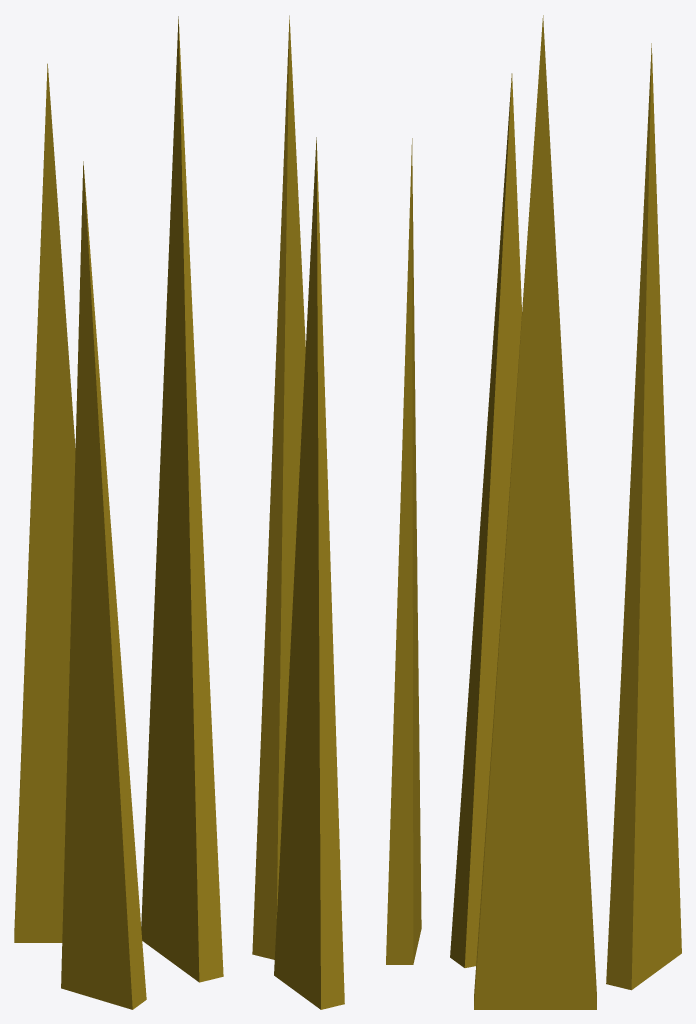
File: Grass_b_03.fbx
The picture shows the model from 3 angles, left to right: view 1: azimuth 30°, elevation 25°; view 2: azimuth 150°, elevation 25°; view 3: azimuth 270°, elevation 25°; orthographic projection. The views are drawn at different scales.
Visible parts, largest first — view 1: Grass_b_03_LOD0; view 2: Grass_b_03_LOD0; view 3: Grass_b_03_LOD0.
Boxes of the visible parts, x1,y1,x2,y2 form: Grass_b_03_LOD0: [14, 16, 223, 1009]; Grass_b_03_LOD0: [252, 15, 421, 1009]; Grass_b_03_LOD0: [450, 15, 681, 1009].
Size of what is drawn, in the model's own units: 2.75 by 18.5 by 3.93.
